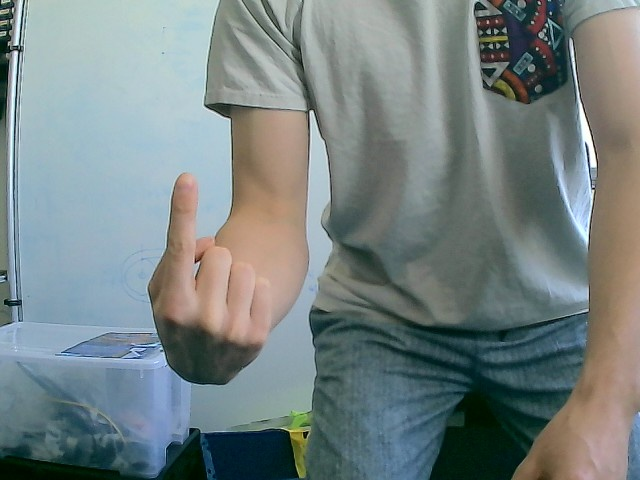up: (146, 171, 274, 386)
